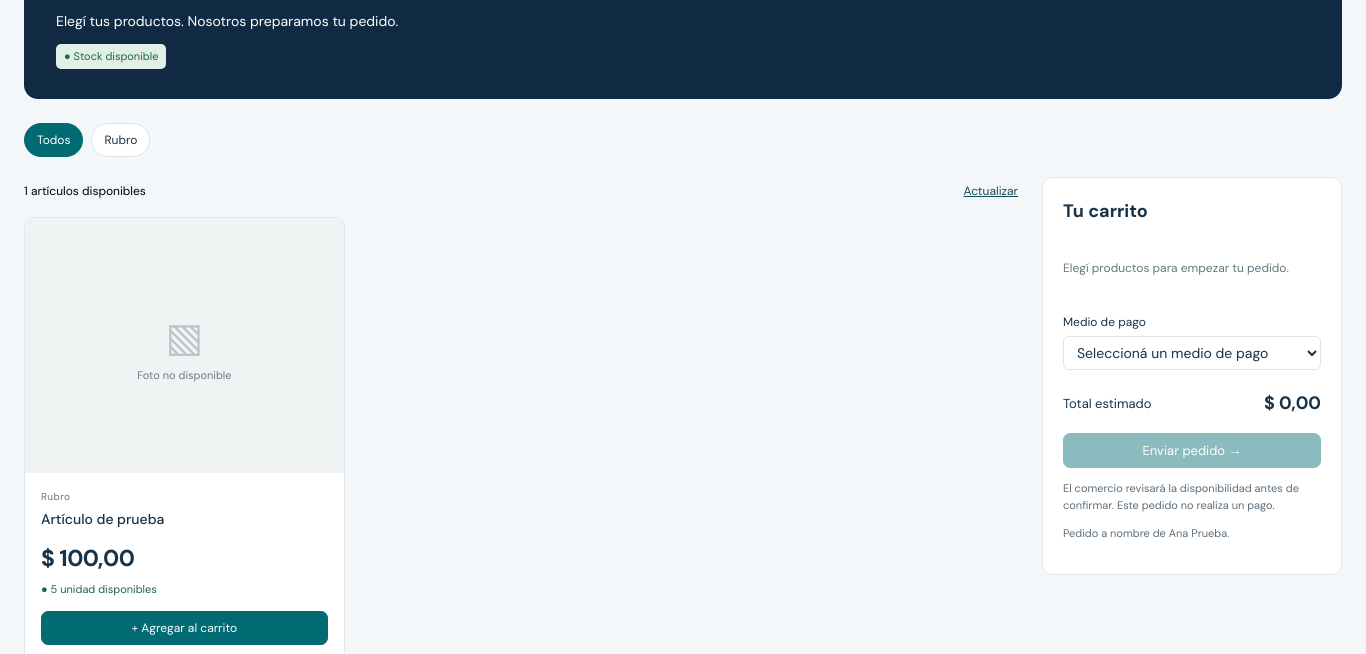
Scenario: requires reviewing a changed price before placing the order
(page scrolled)
Click the button "+ Agregar al carrito" at (184, 628), box [41, 611, 328, 645]
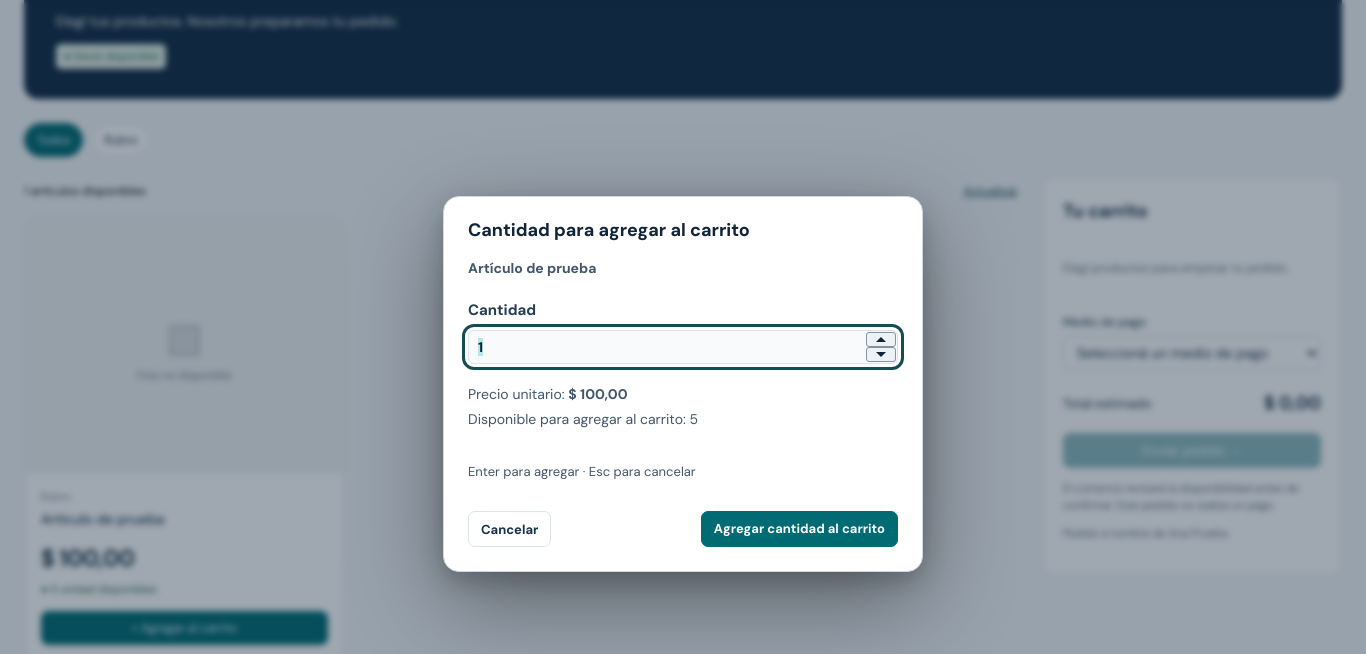
Click the button "Agregar cantidad al carrito" at (799, 529), box [701, 511, 898, 547]
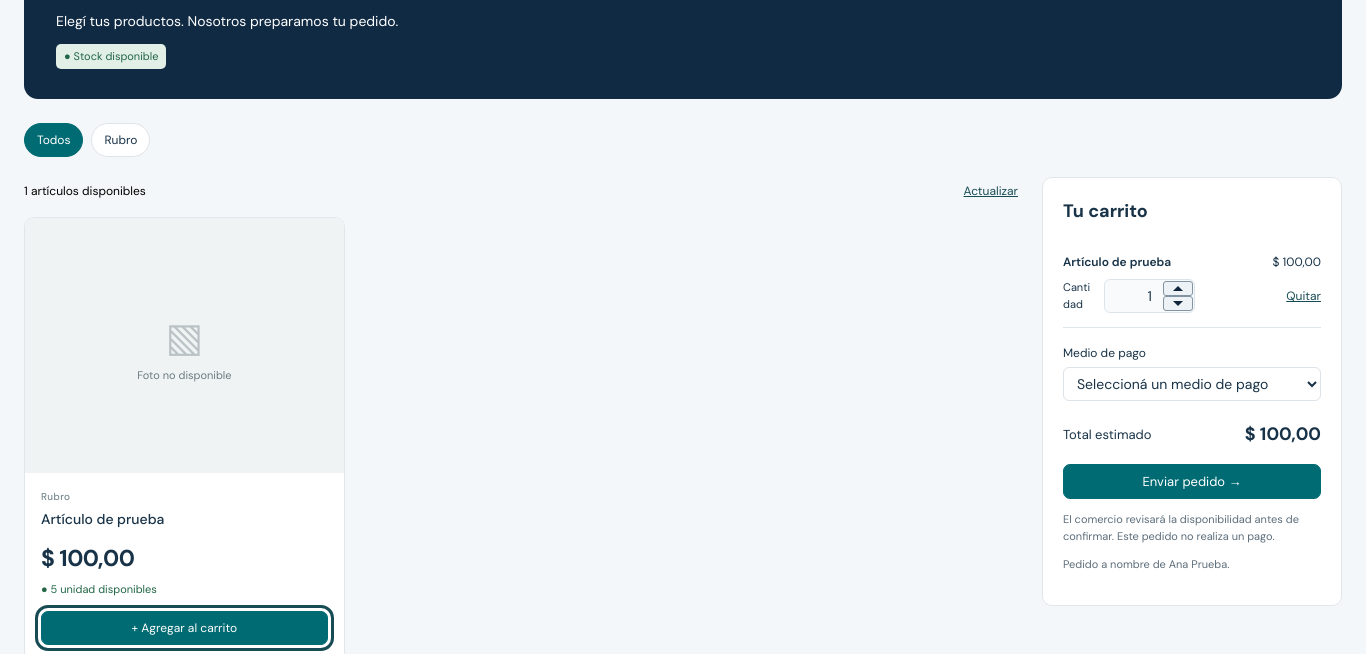
Select "Efectivo" in the dropdown labelled "Medio de pago" at (1192, 384), box [1063, 367, 1321, 401]
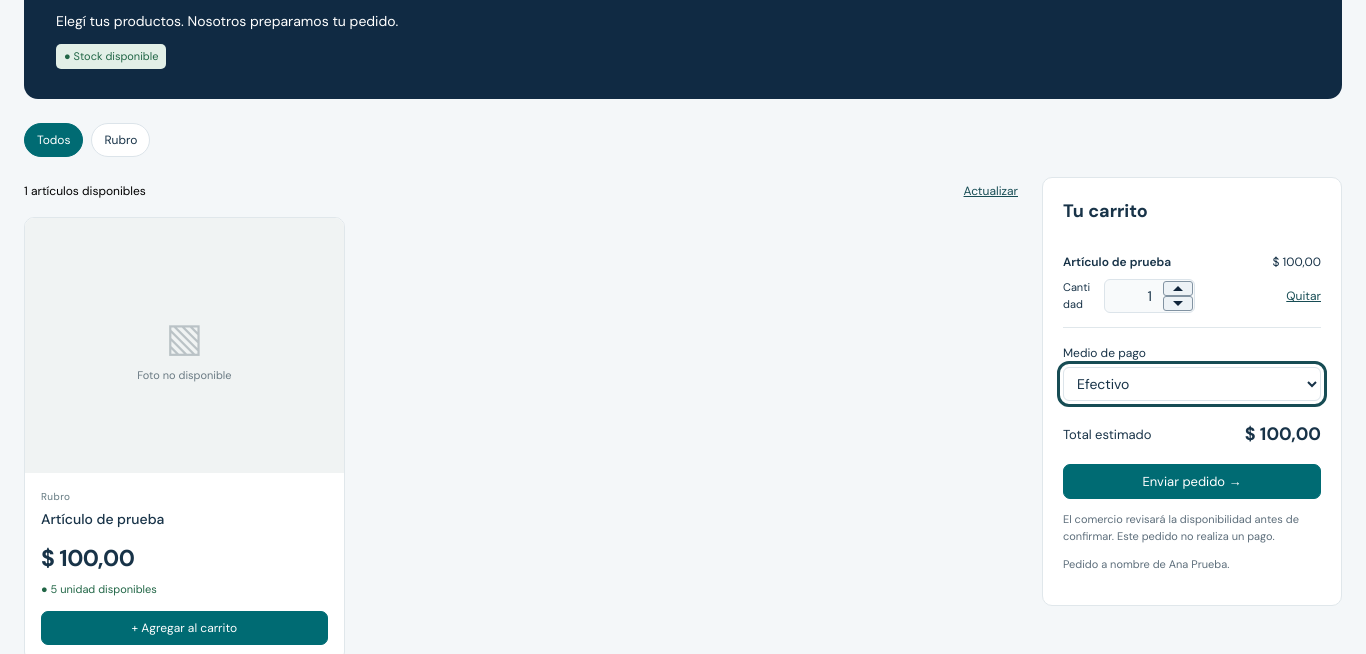
Click the button "Enviar pedido →" at (1192, 482), box [1063, 464, 1321, 499]
(page scrolled)
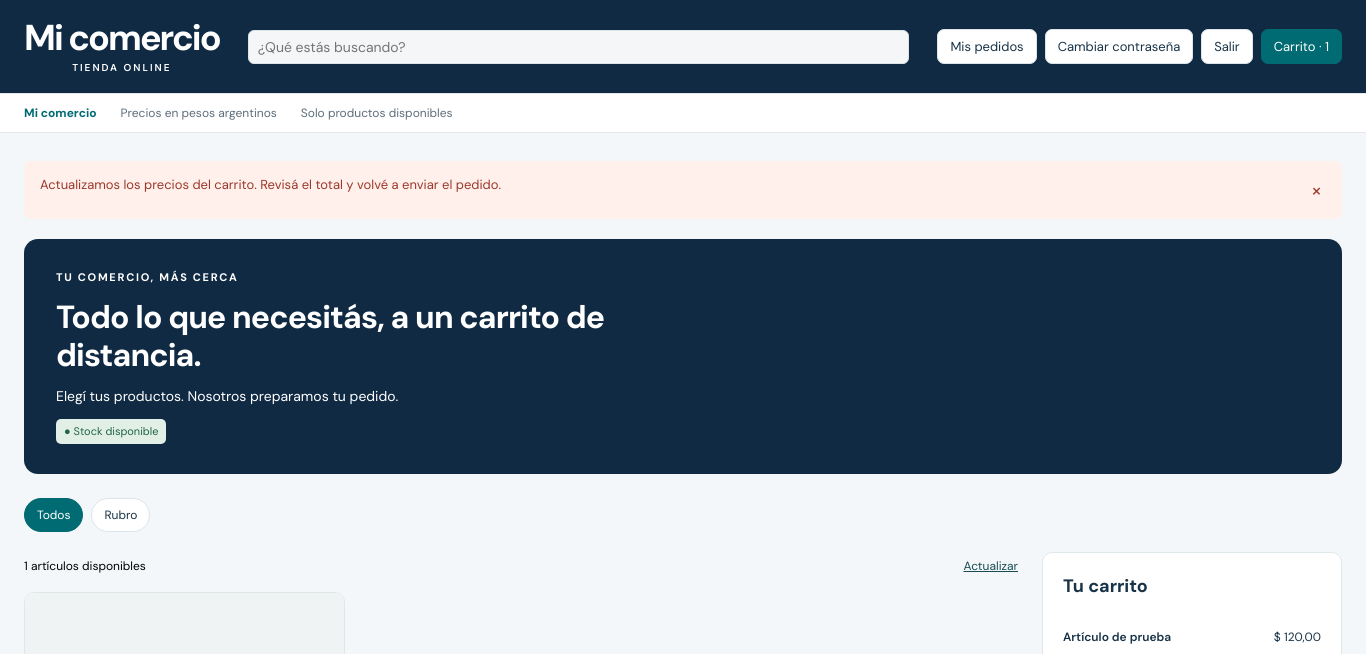
Check: the message shows "Actualizamos los precios", box [40, 176, 501, 193]
